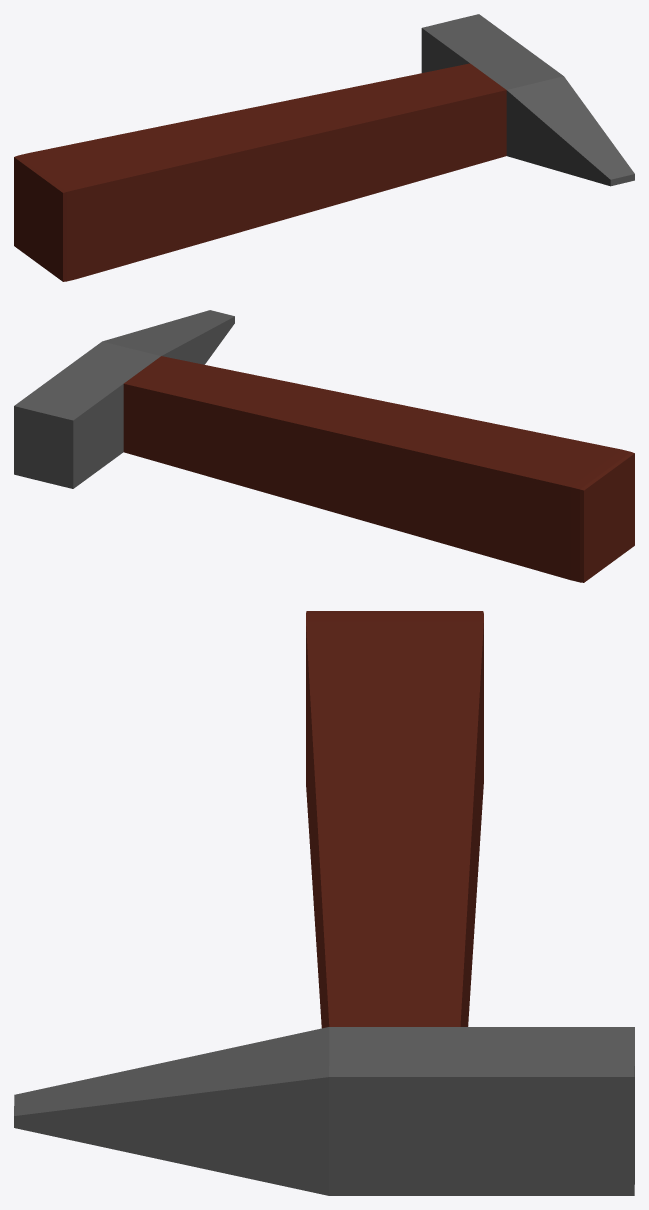
The picture shows the model from 3 angles, top to bottom: view 1: azimuth 30°, elevation 25°; view 2: azimuth 150°, elevation 25°; view 3: azimuth 270°, elevation 25°; orthographic projection. The views are drawn at different scales.
Parts seen in each view (by area): view 1: Cube; view 2: Cube; view 3: Cube.
Part boxes in pixels (<box>): Cube: <box>14,14,634,281</box>; Cube: <box>14,310,634,582</box>; Cube: <box>14,611,634,1195</box>.
Bounding box in the file's own units: 653 × 110 × 385.
